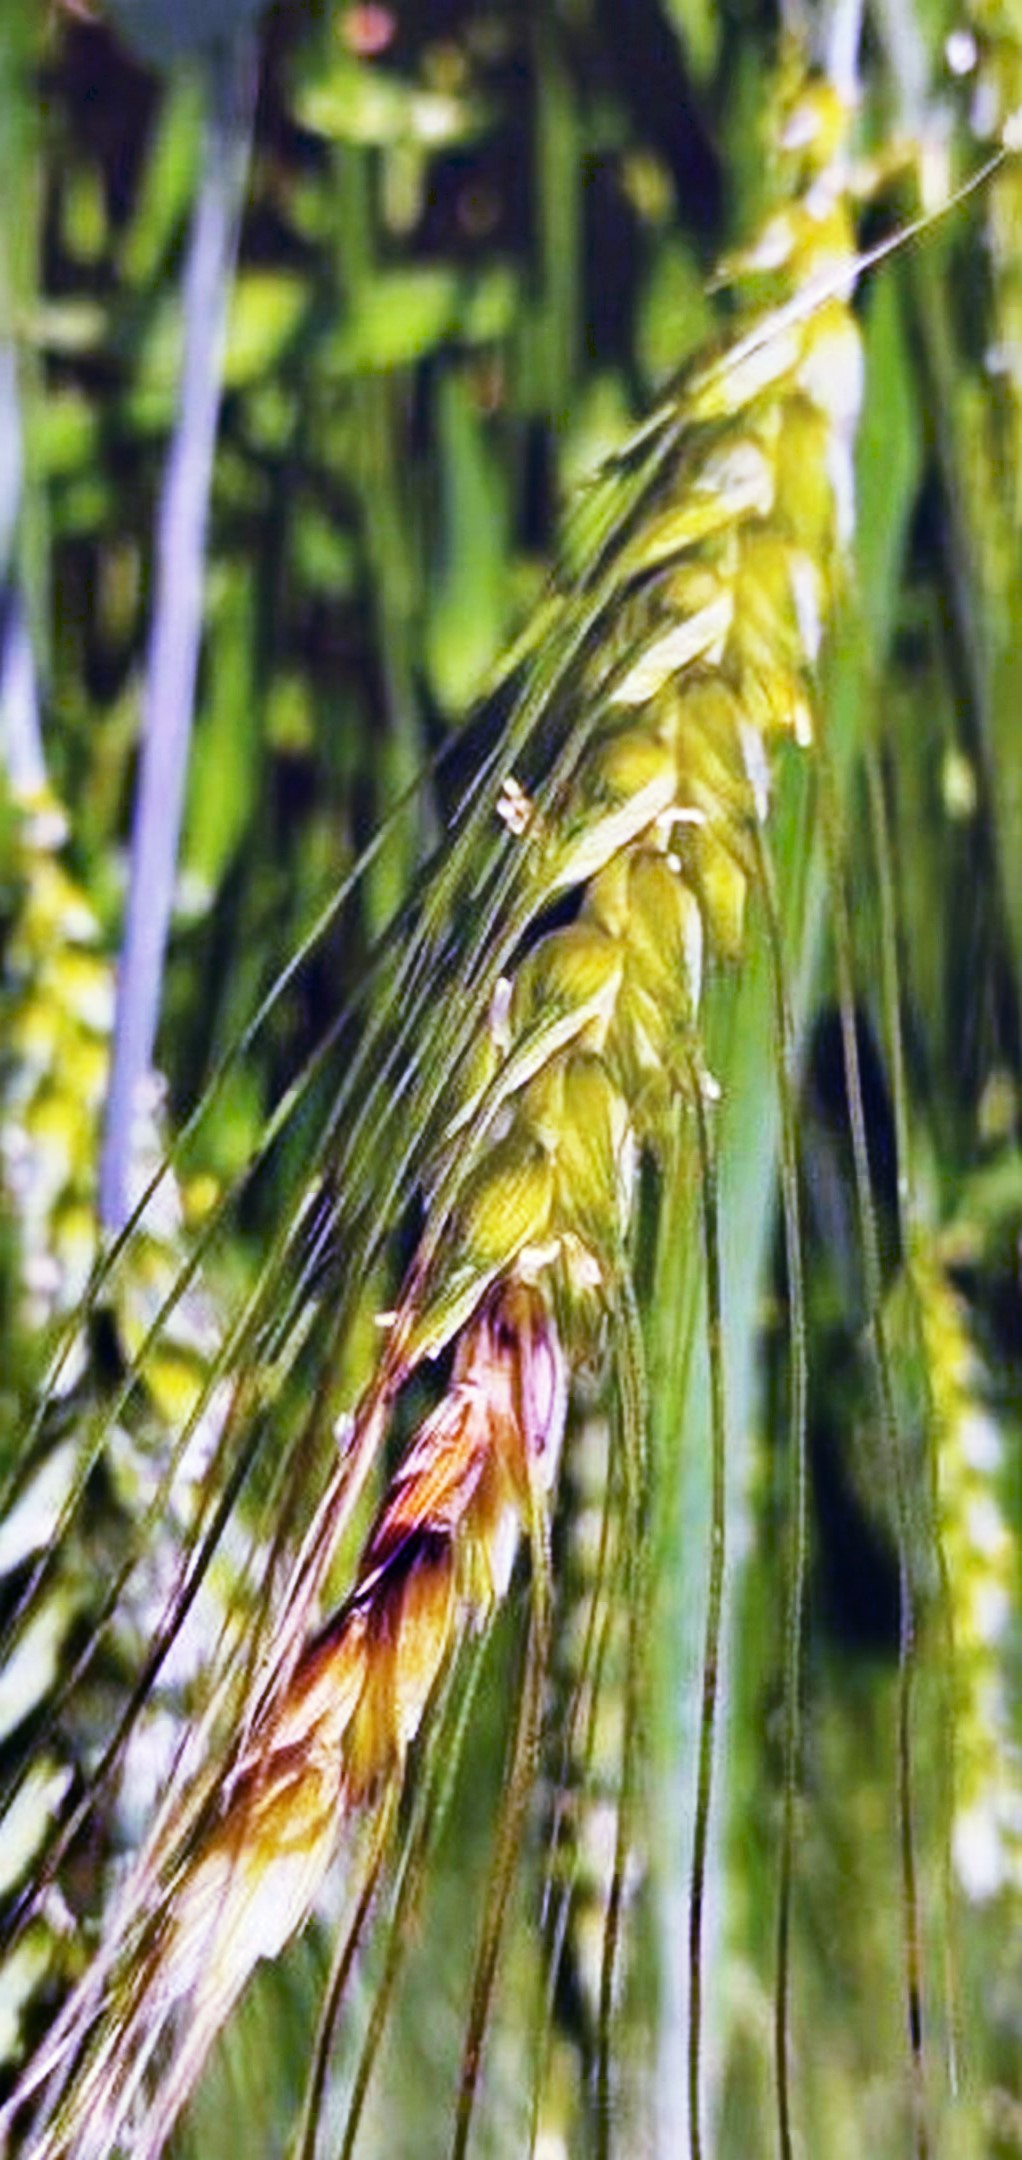Wheat scab: (194, 196, 888, 1915)
